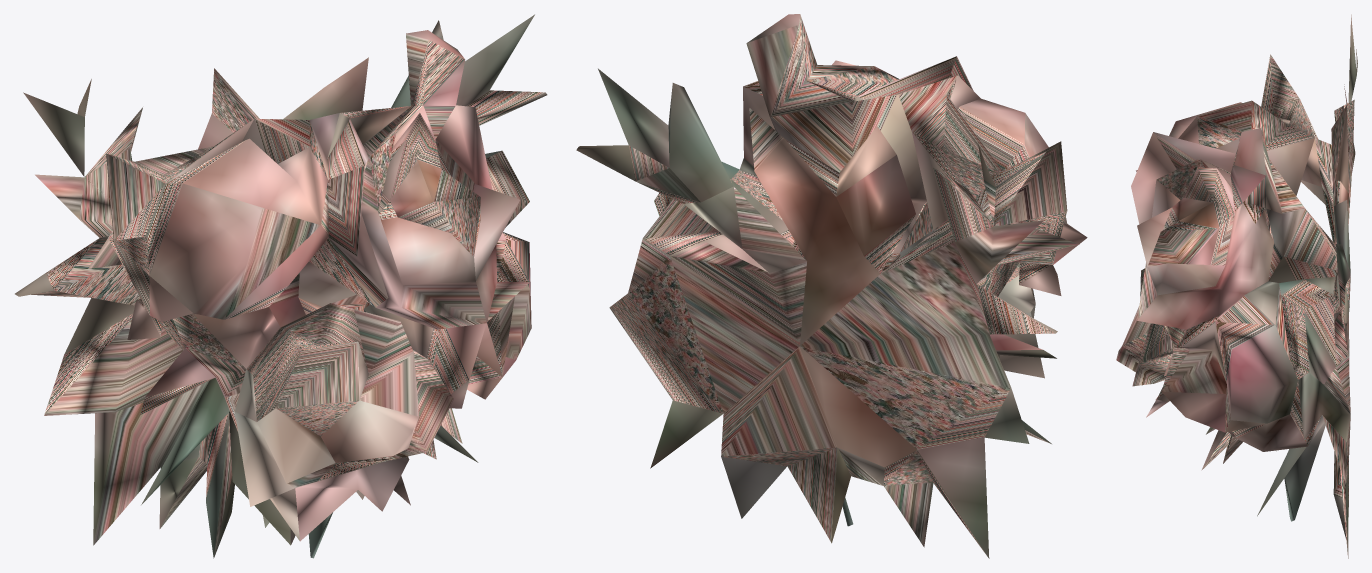
3 views of the same model, side by side, from view 1: azimuth 30°, elevation 25°; view 2: azimuth 150°, elevation 25°; view 3: azimuth 270°, elevation 25° (orthographic). The views are drawn at different scales.
Visible parts, largest first — view 1: Rose-Bouquet-9-35; view 2: Rose-Bouquet-9-35; view 3: Rose-Bouquet-9-35.
Boxes of the visible parts, box(x1,y1,x2,y2) form: Rose-Bouquet-9-35: box(15, 14, 547, 558); Rose-Bouquet-9-35: box(576, 14, 1087, 558); Rose-Bouquet-9-35: box(1116, 14, 1357, 558).
Size of the model in its own units: 0.2464 by 0.2327 by 0.1198.
1 material, 1 textured.
